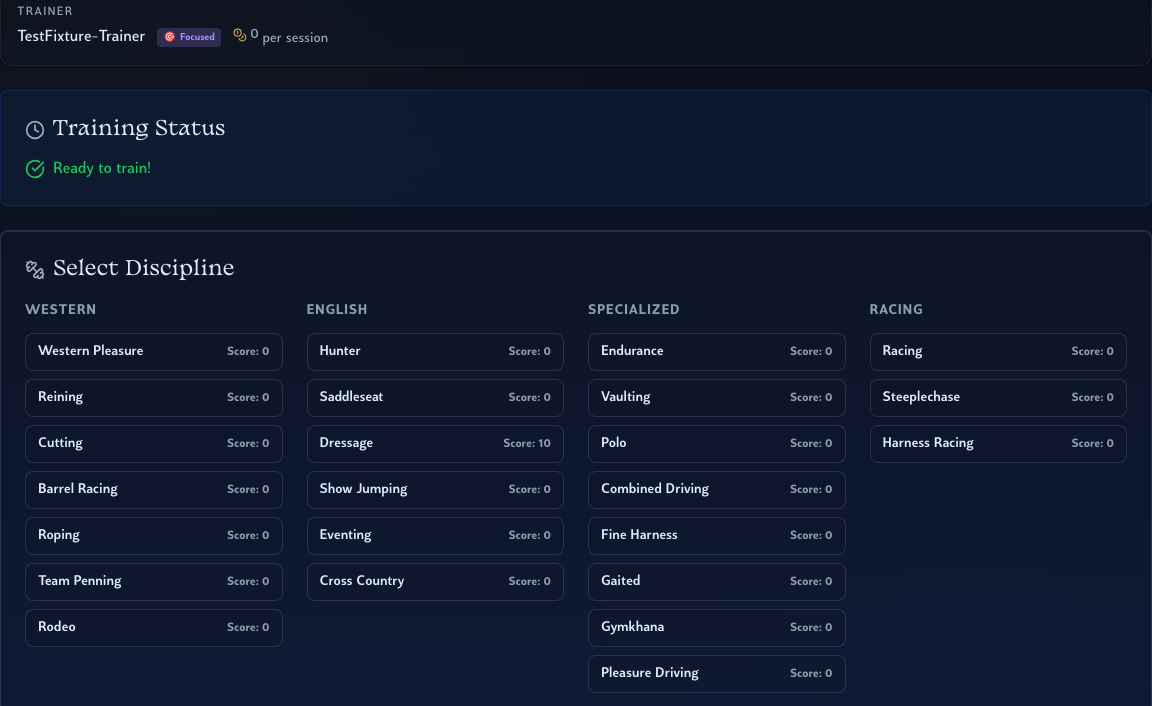
Test: TrainingTab — failed training (Equoria-mr1kq) › shows mapped copy for a refusal
This screenshot has width=1152, height=706.
Click the button with aria-label "select dressage discipline": point(435, 444) [306,425,564,463]
(page scrolled)
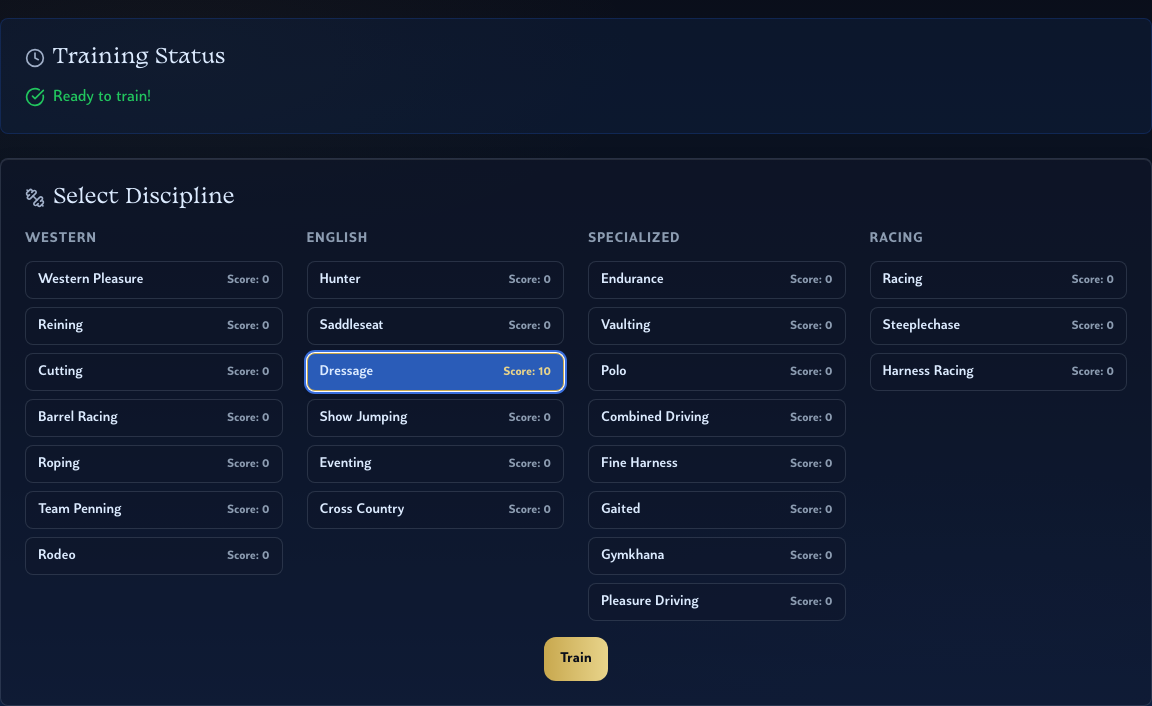
Click the button with test id "train-button": point(576, 659) [544,637,608,681]
(page scrolled)
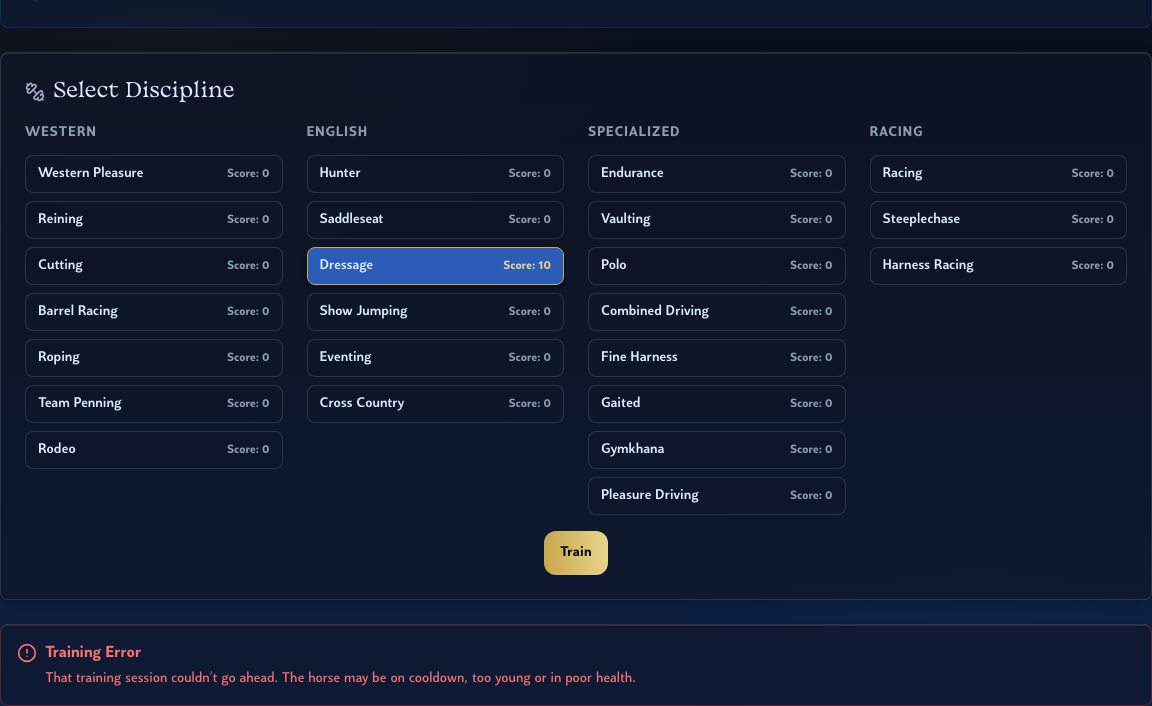
Expected: the text "That training session couldn't go ahead. The horse may be on cooldown, too young or in poor health." is shown, [45,671,636,686]
